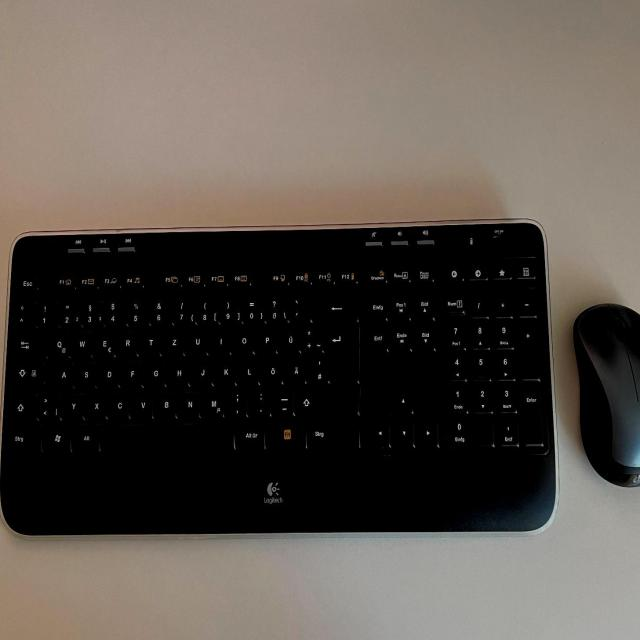0: (244, 294, 265, 322)
1: (38, 299, 59, 327)
2: (60, 298, 81, 326)
3: (82, 298, 104, 325)
4: (105, 297, 126, 325)
5: (128, 296, 148, 324)
6: (151, 296, 172, 324)
7: (174, 295, 196, 323)
8: (198, 295, 218, 323)
9: (221, 294, 241, 323)
a: (53, 359, 73, 387)
accent: (290, 293, 310, 320)
ae: (285, 355, 305, 382)
alt-left: (72, 421, 100, 452)
altgr-right: (236, 418, 264, 449)
b: (155, 388, 176, 416)
c: (108, 389, 129, 417)
caret: (14, 299, 36, 327)
comma: (226, 386, 246, 415)
d: (98, 359, 118, 386)
del: (313, 291, 358, 321)
e: (94, 327, 114, 356)
enter: (325, 323, 358, 382)
f: (121, 358, 141, 385)
g: (145, 357, 165, 385)
h: (168, 356, 188, 384)
hash: (308, 354, 328, 382)
i: (210, 326, 230, 353)
j: (192, 356, 212, 384)
k: (215, 355, 235, 384)
keyboard: (0, 224, 554, 468)
l: (238, 355, 258, 383)
less: (38, 390, 60, 419)
m: (202, 388, 222, 416)
minus: (272, 386, 293, 414)
n: (178, 388, 199, 416)
o: (233, 326, 253, 353)
oe: (262, 355, 282, 382)
p: (256, 324, 276, 352)
plus: (302, 323, 323, 352)
point: (250, 387, 270, 415)
q: (47, 328, 69, 356)
r: (116, 327, 137, 355)
s: (75, 359, 95, 387)
shift-left: (9, 392, 36, 420)
shift-lock: (11, 359, 50, 388)
shift-right: (296, 385, 358, 413)
space: (100, 420, 233, 451)
ss: (267, 293, 287, 322)
strg-left: (6, 421, 42, 453)
strg-right: (306, 416, 360, 448)
t: (140, 327, 160, 354)
tab: (13, 329, 45, 356)
u: (186, 326, 207, 354)
ue: (279, 323, 299, 351)
v: (132, 389, 152, 417)
w: (71, 328, 91, 356)
x: (85, 390, 105, 417)
y: (62, 390, 82, 417)
z: (163, 326, 183, 353)
